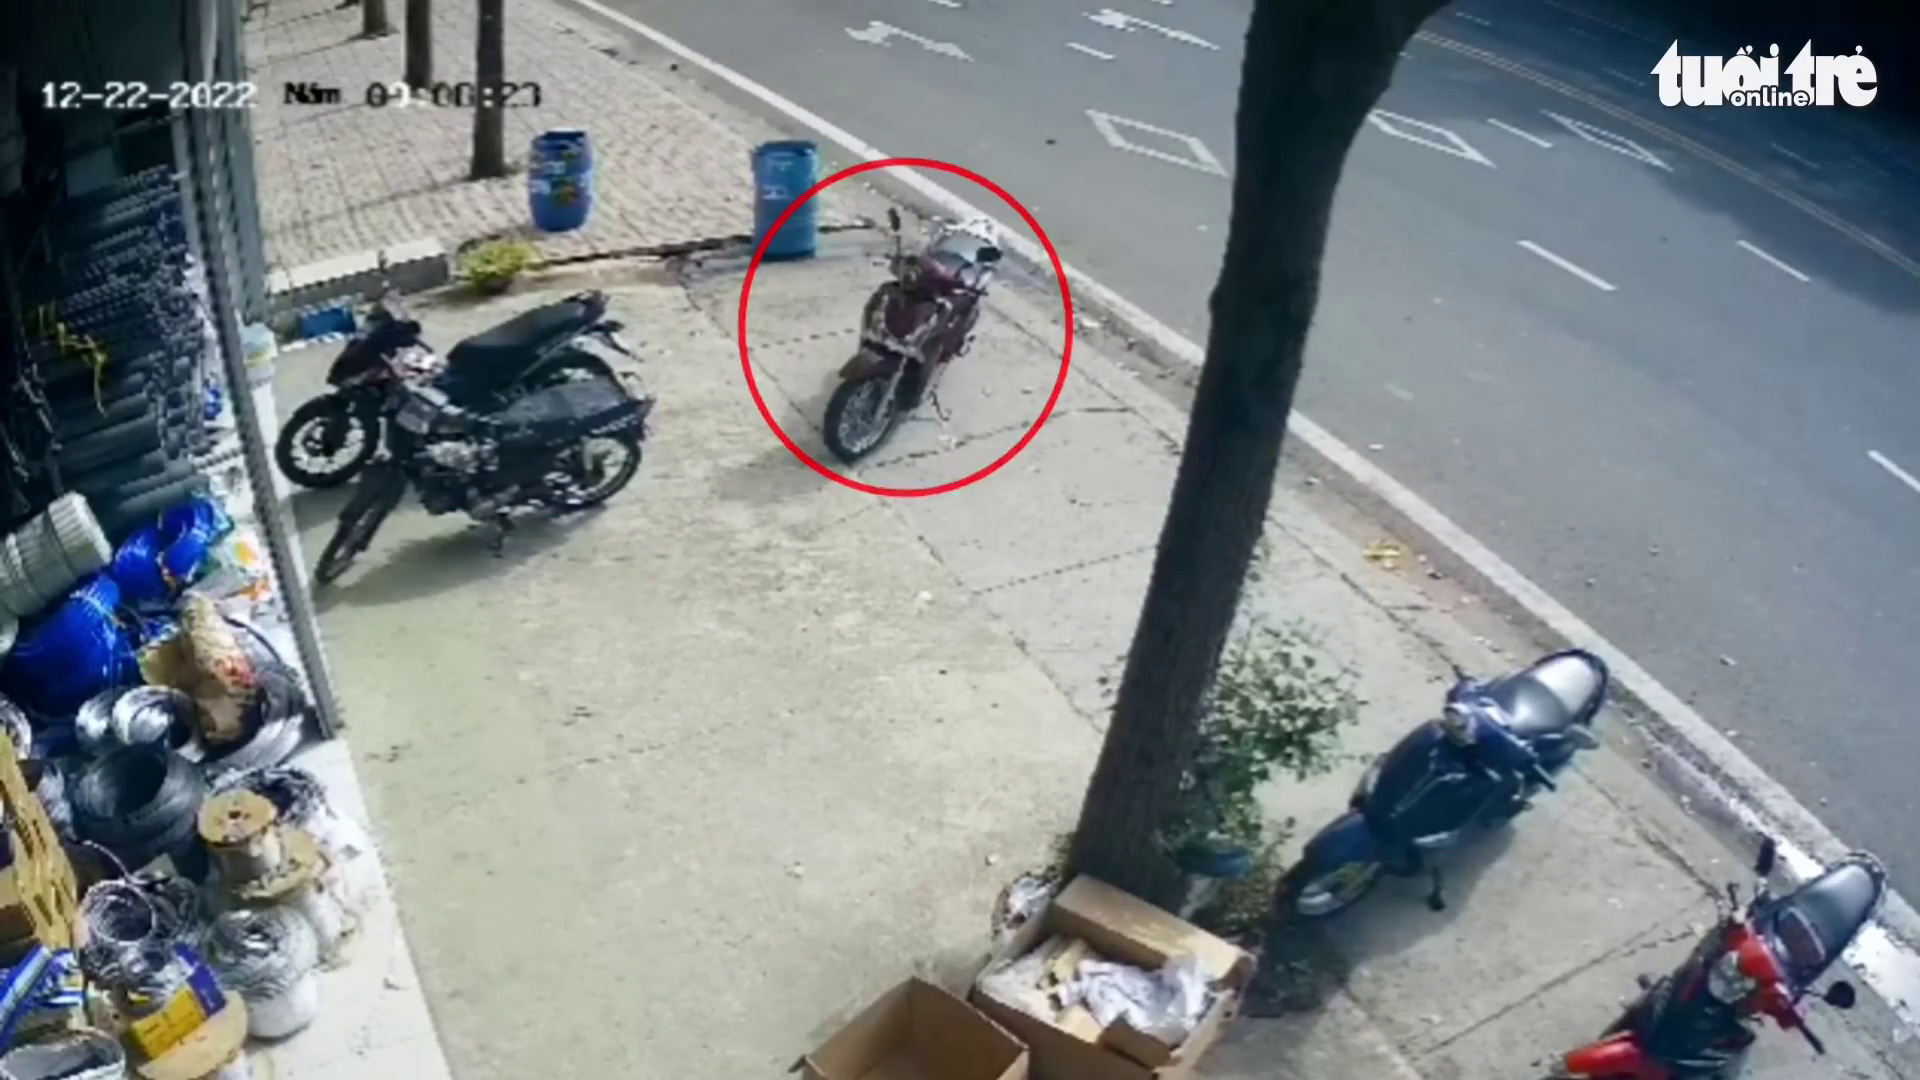Motorcycle: (274, 282, 655, 589), (1286, 646, 1611, 919), (1547, 835, 1887, 1079), (822, 202, 1005, 462)
